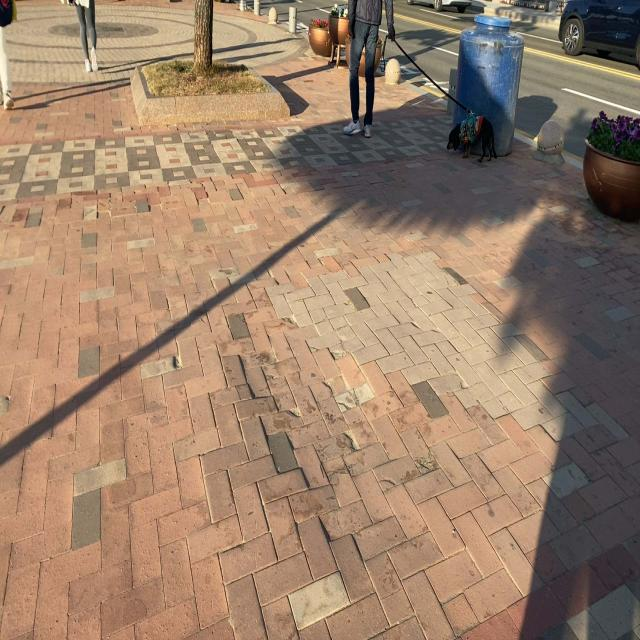Leashed_Dog: (369, 27, 498, 163)
